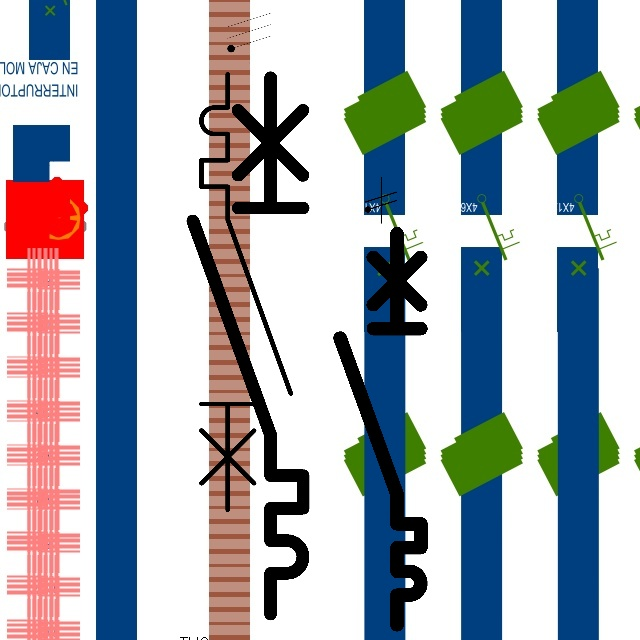interruptor_termomagnetico: (179, 63, 317, 627), (190, 63, 302, 521), (330, 223, 431, 635)
